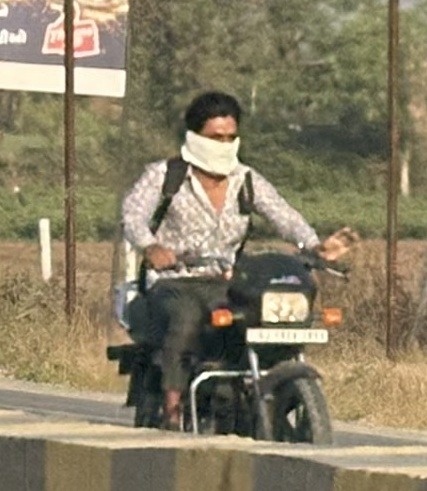BikeWithRider: (96, 81, 369, 454)
NoHelmet: (168, 84, 256, 178)
